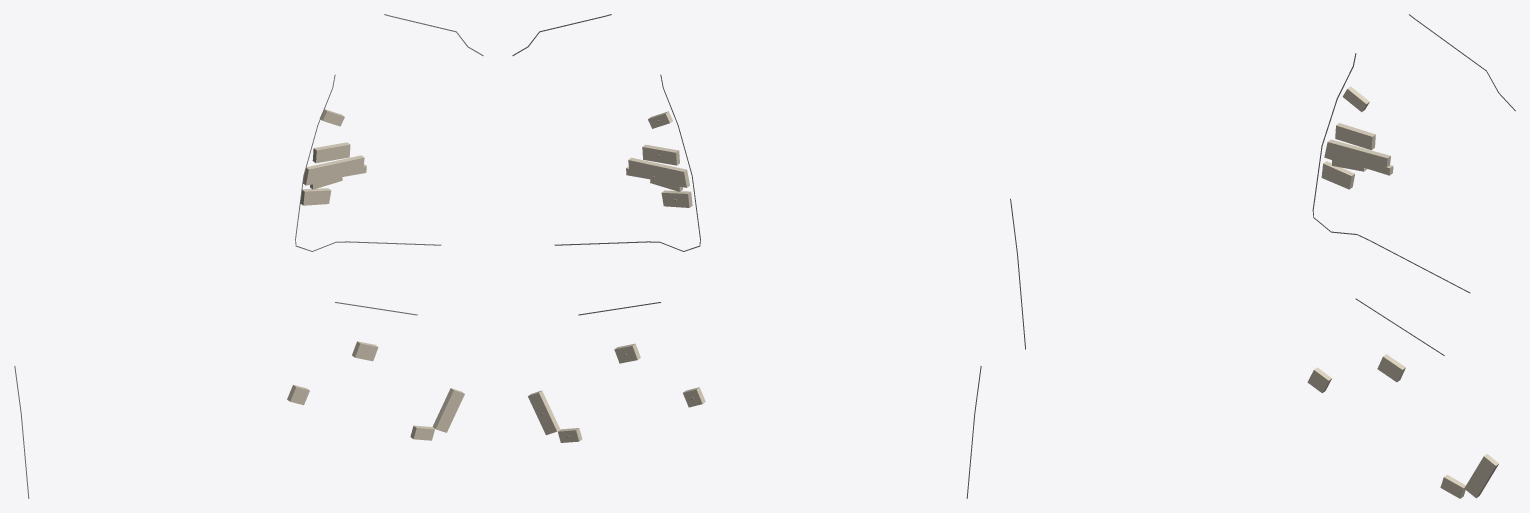
Rendered from historic-palestine-08_26_3502_3207.glb.
The picture shows the model from 3 angles, left to right: view 1: azimuth 30°, elevation 25°; view 2: azimuth 150°, elevation 25°; view 3: azimuth 330°, elevation 25°; orthographic projection. The views are drawn at different scales.
Parts seen in each view (by area): view 1: Building_.007, Building_, Building_.006, Road .002; view 2: Building_.007, Building_, Building_.006, Road .002; view 3: Building_.007, Building_, Building_.006, Building_.004, Road .002.
Part boxes in pixels (box(x1,y1,x2,y2)): Building_.007: box(303, 155, 366, 189); Building_: box(432, 388, 464, 432); Building_.006: box(312, 142, 350, 163); Road .002: box(295, 74, 441, 251); Building_.007: box(626, 157, 689, 191); Building_: box(528, 390, 560, 435); Building_.006: box(642, 144, 679, 165); Road .002: box(554, 74, 700, 251); Building_.007: box(1324, 139, 1393, 175); Building_: box(1464, 454, 1498, 498); Building_.006: box(1335, 123, 1375, 150); Building_.004: box(1321, 161, 1354, 189); Road .002: box(1312, 53, 1470, 293).
Size of the model in its own units: 637 by 569 by 8.7.
